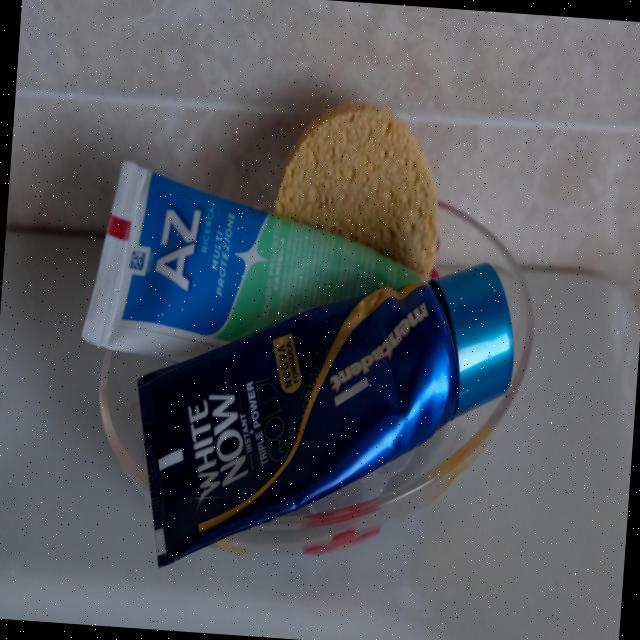Toothpaste: (101, 236, 533, 594), (69, 152, 442, 374)
